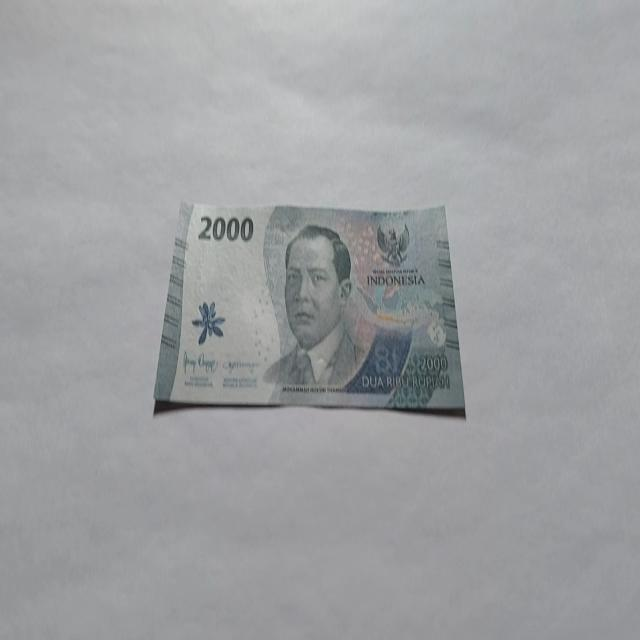dua ribu rupiah: (152, 198, 466, 416)
